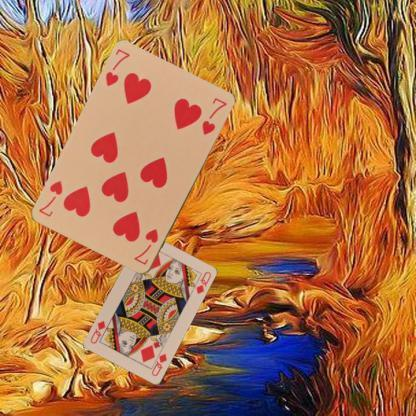7h: (103, 46, 132, 89), (131, 226, 160, 266)
Qd: (148, 346, 168, 378)
